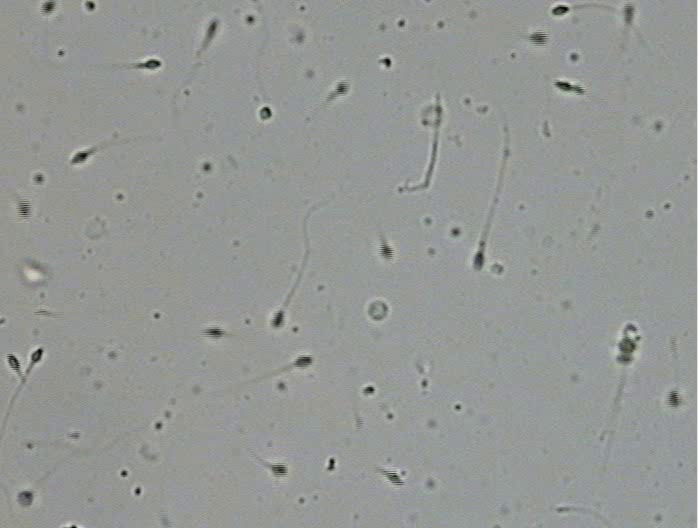Impurity: (368, 300, 388, 320)
S: (616, 337, 636, 364), (529, 30, 549, 47), (384, 470, 405, 486), (17, 199, 32, 219), (6, 353, 20, 372), (202, 327, 224, 339), (70, 151, 89, 164), (294, 355, 313, 368), (17, 491, 33, 506), (379, 243, 394, 259), (623, 3, 635, 23), (271, 463, 288, 477), (271, 310, 284, 328), (667, 390, 680, 408), (473, 251, 485, 270), (205, 20, 218, 37), (552, 5, 570, 16), (335, 81, 349, 95), (40, 1, 55, 14), (554, 81, 573, 91), (259, 106, 272, 120), (144, 59, 161, 69), (31, 349, 42, 362), (85, 1, 96, 11)
